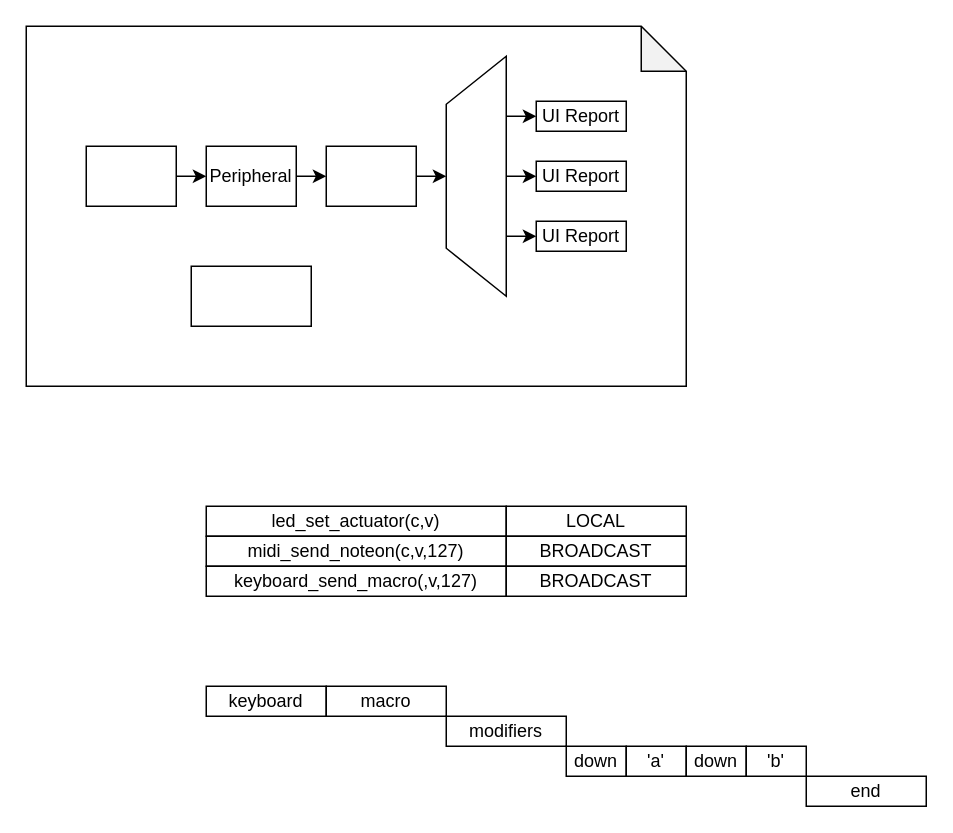
Image size: 953x833. Some labels were removed from this diagram. The shapes that lost their labels are listed below. From the top down, each one's box as (x1, y1, x2, y2) in pixels, then its label:
(85, 145, 176, 206): Hardware
(325, 145, 416, 206): Filtering
(445, 55, 506, 296): Event Detection
(190, 265, 311, 326): Report Helper for buffering
